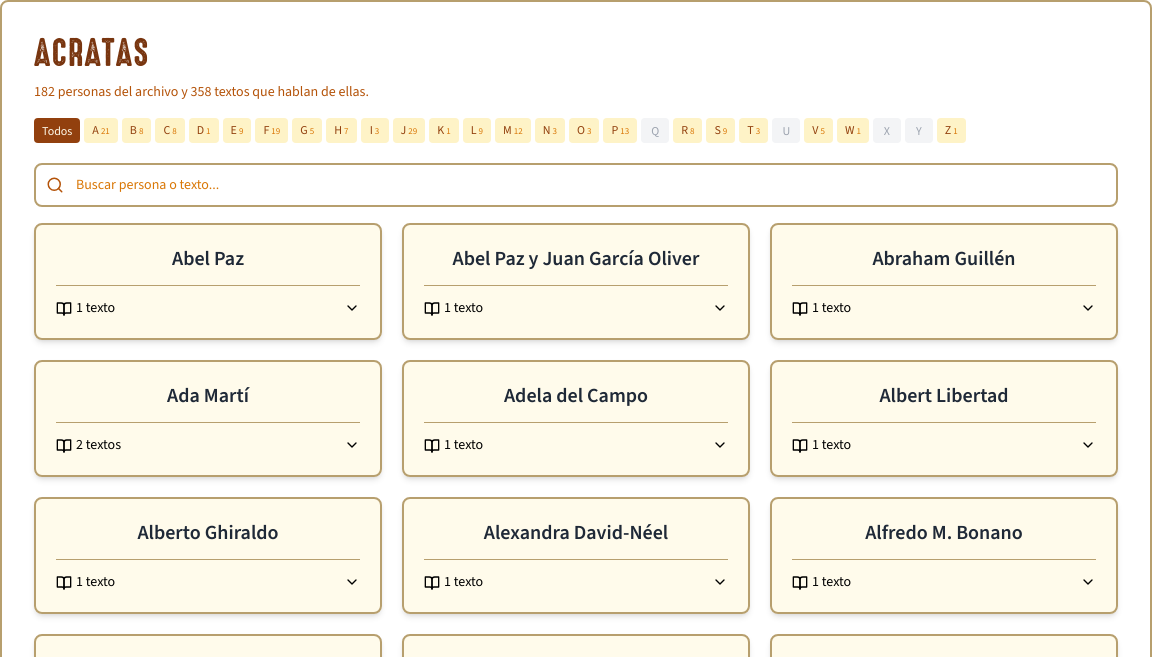
it: AcratasView › filtra por letra al pulsar el chip E
Click the button "E9" at (237, 130), box [223,118,251,143]
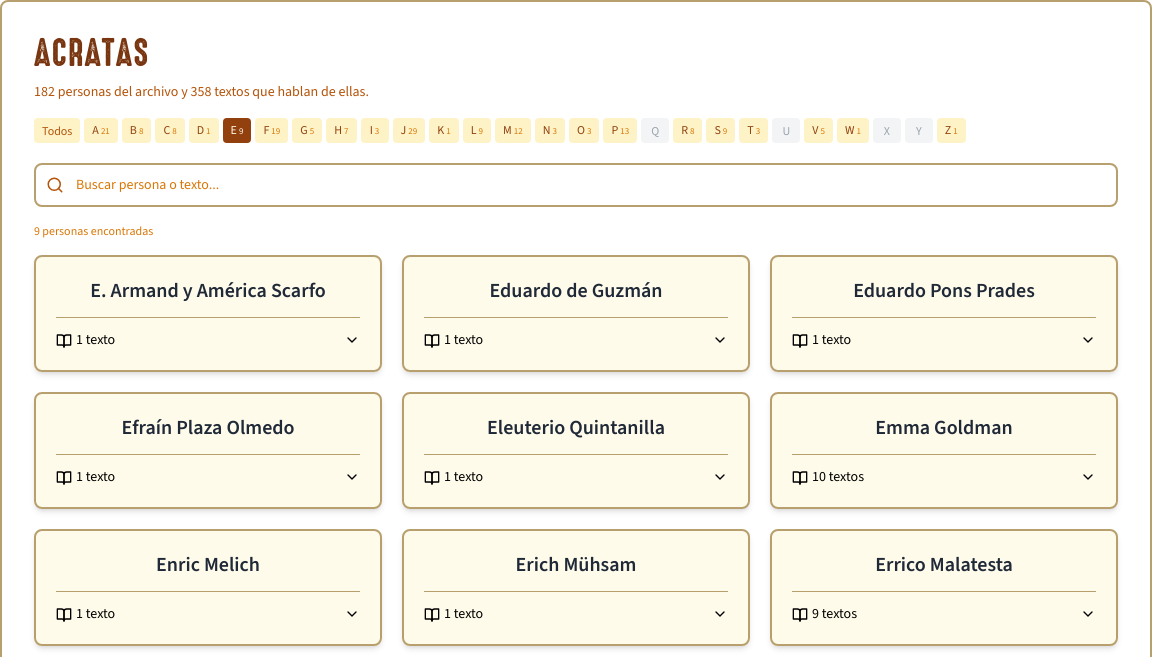
Expected: the heading "Emma Goldman" is shown, [875,414,1013,441]
Expected: the heading "Eleuterio Quintanilla" is shown, [487,414,665,441]
